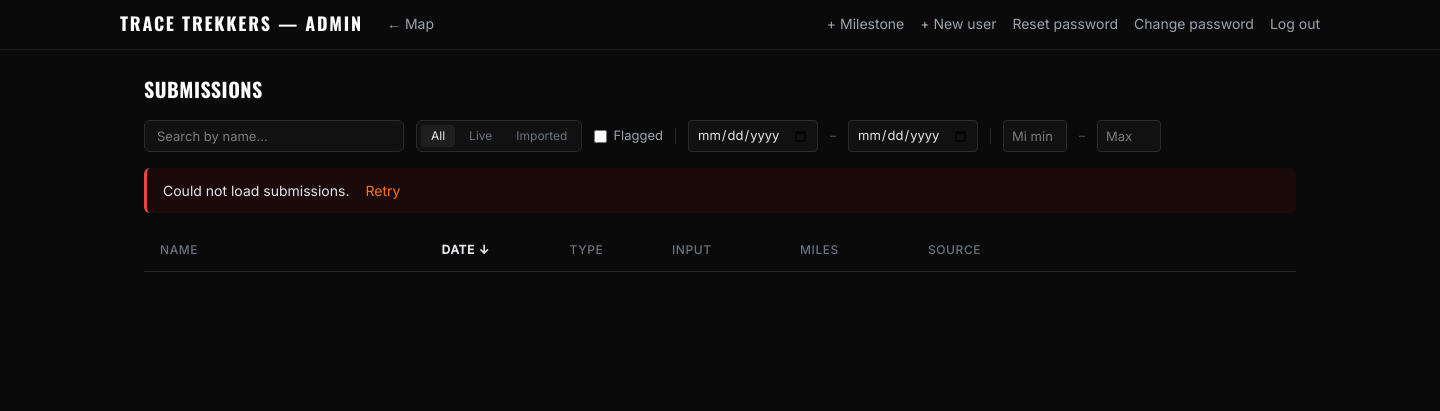
it: AdminPage › fetch error › shows a Retry button that re-fetches on click
Expected: the message "Could not load submissions. Retry" is shown, [120, 168, 1320, 213]
Click the button "Retry": (383, 190) [365, 180, 400, 201]
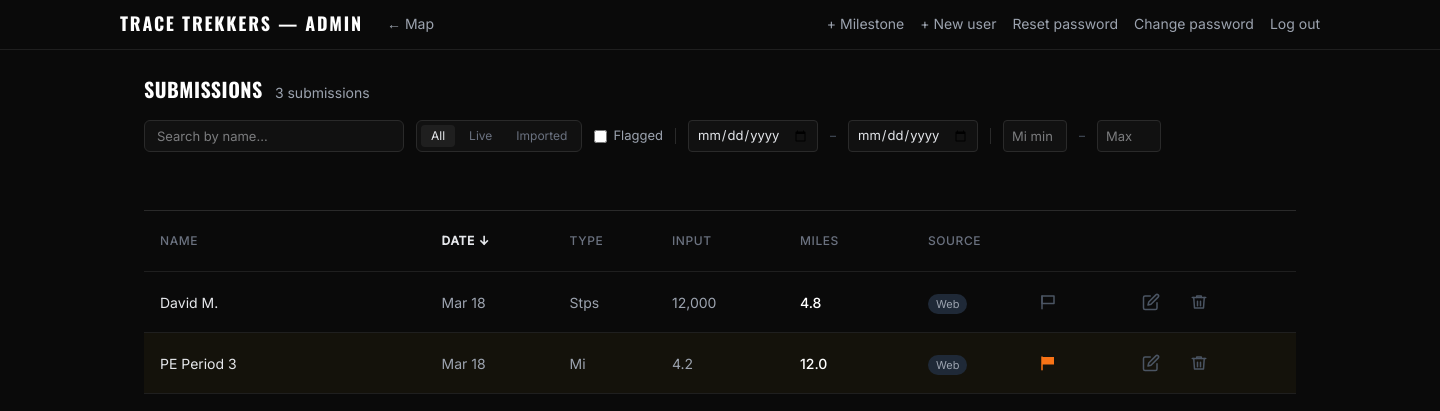
Expected: the message "Could not load submissions. Retry" is gone
